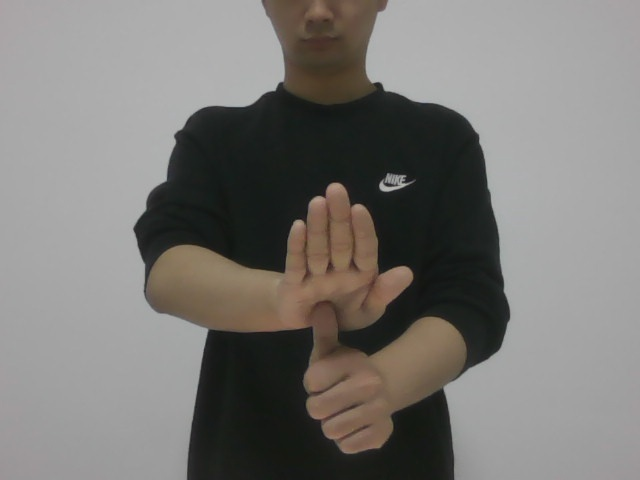love: (273, 181, 423, 465)
